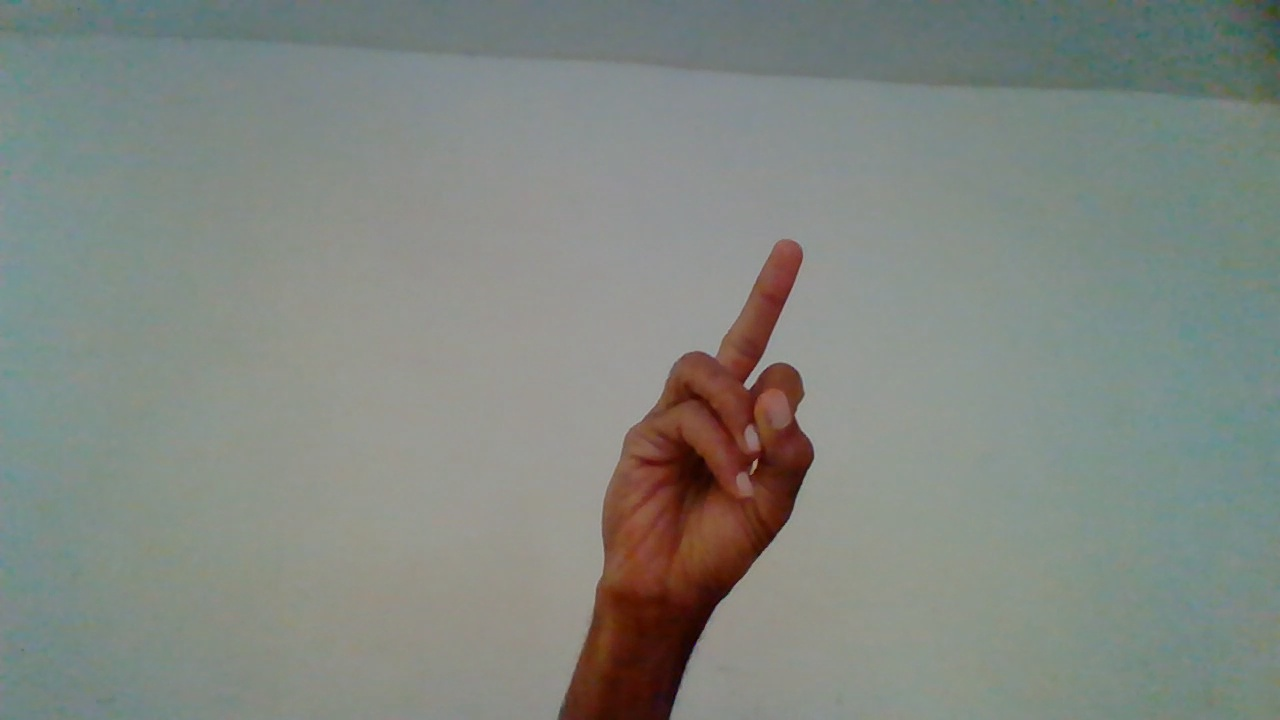he: (589, 241, 818, 691)
